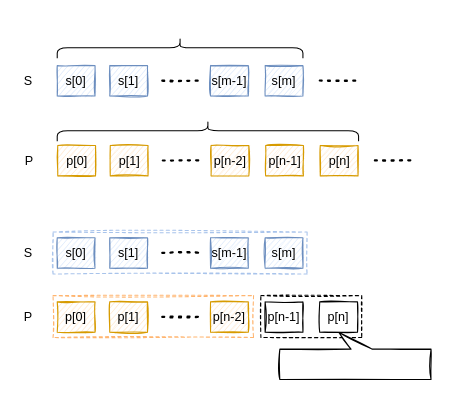
The diagram is 449 pixels wide and 398 high, and some of its shapes have lost their labels. Each missing label, with the centre of its shape:
P(n): point (207, 130)
p[n]='*',将前一个元素消掉: point (355, 355)
S(m): point (179, 47)
